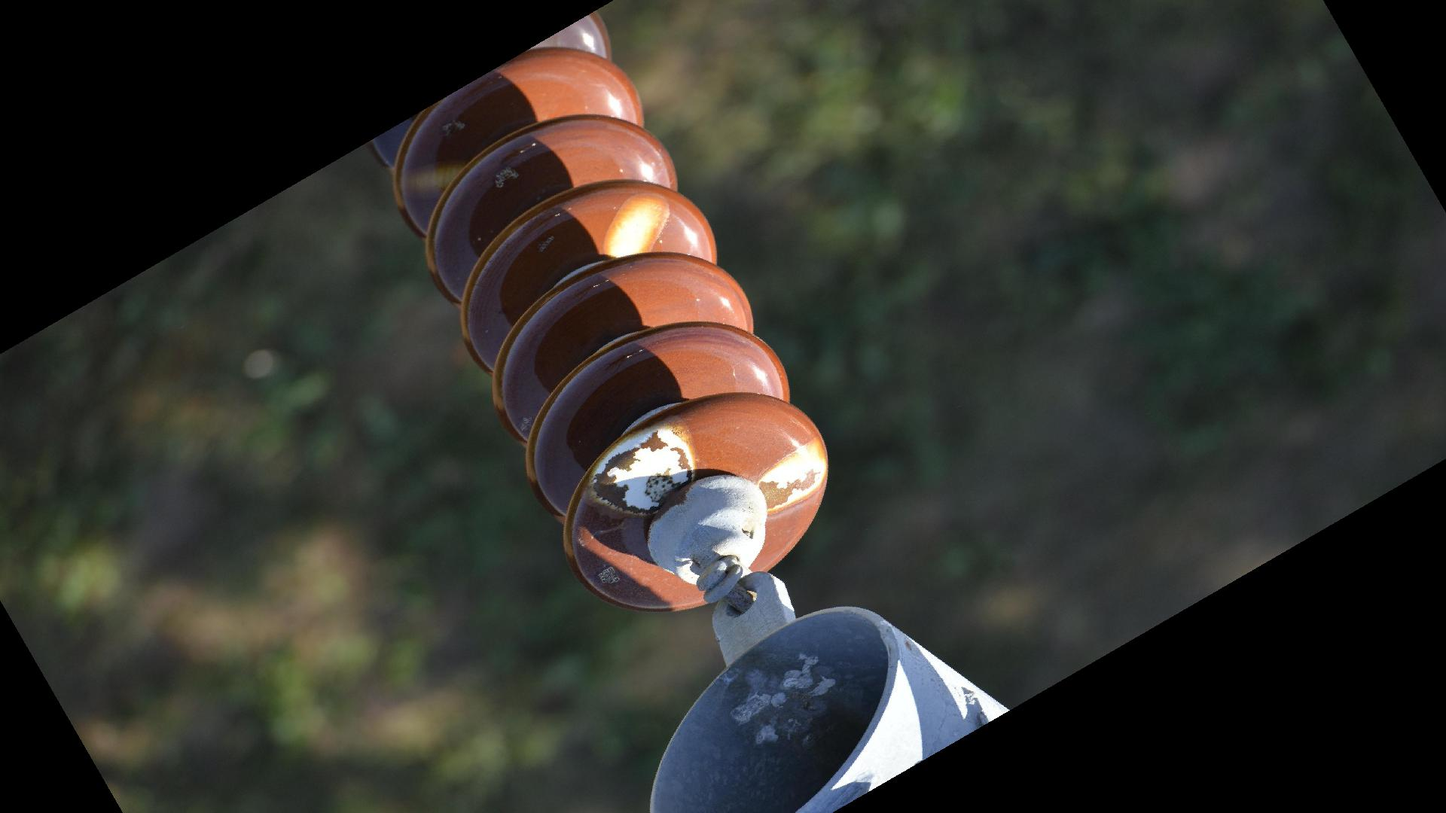insulator: (368, 14, 840, 618)
insulator_flashover: (584, 419, 698, 521), (754, 434, 832, 516), (596, 189, 673, 263), (400, 159, 467, 203)
